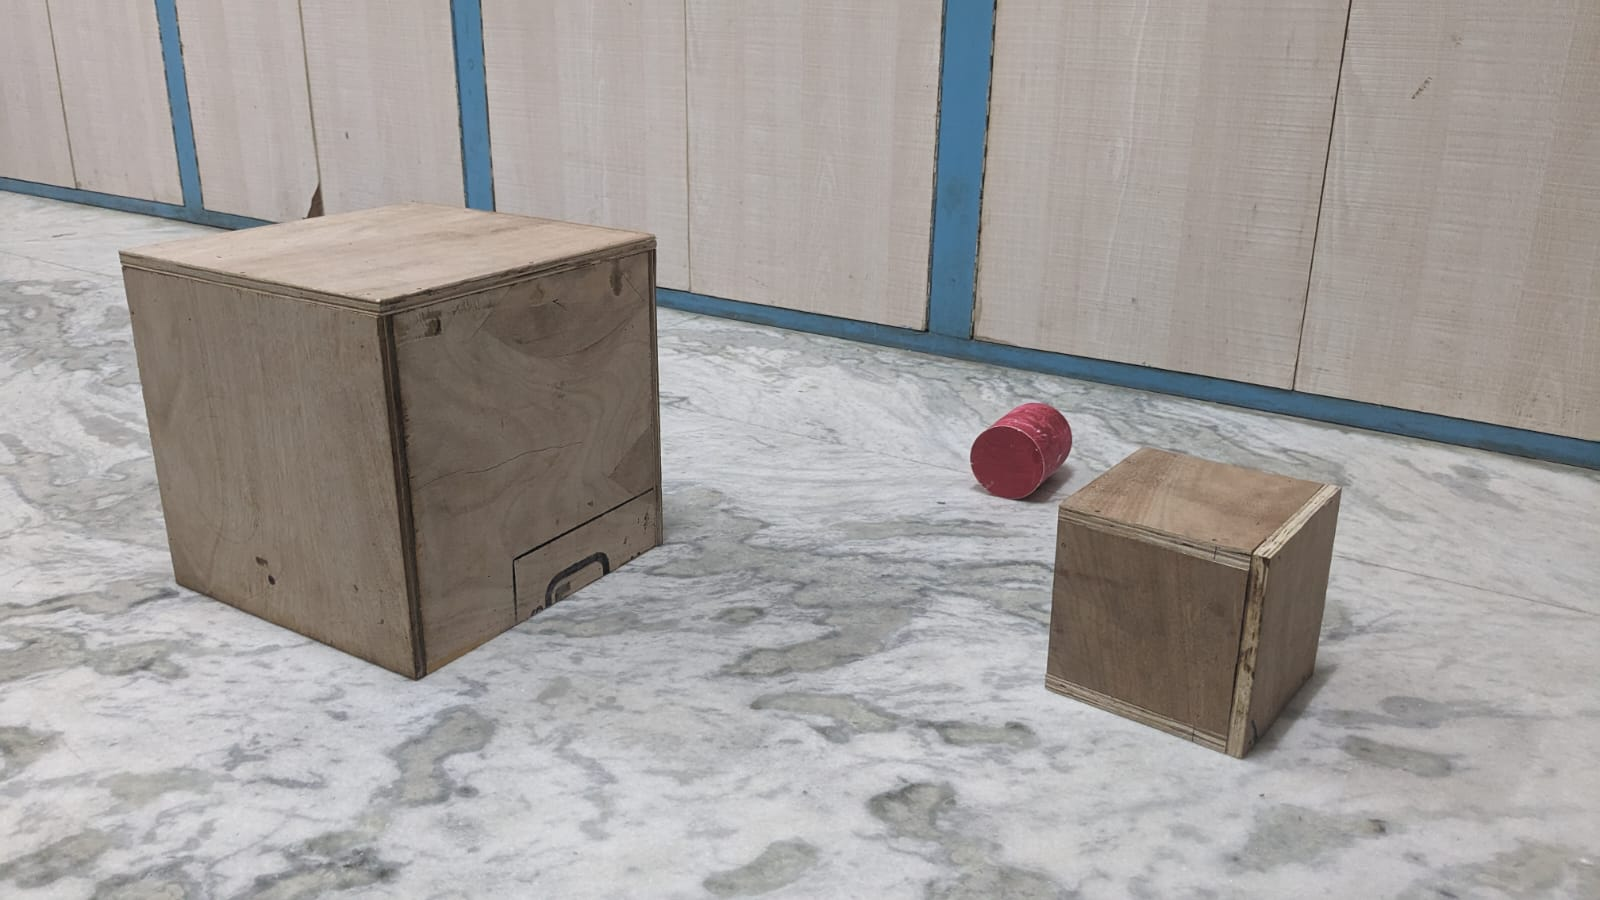150mm obstacle: (1048, 437, 1369, 798)
300mm obstacle: (104, 179, 725, 703)
testtube: (947, 381, 1075, 496)
